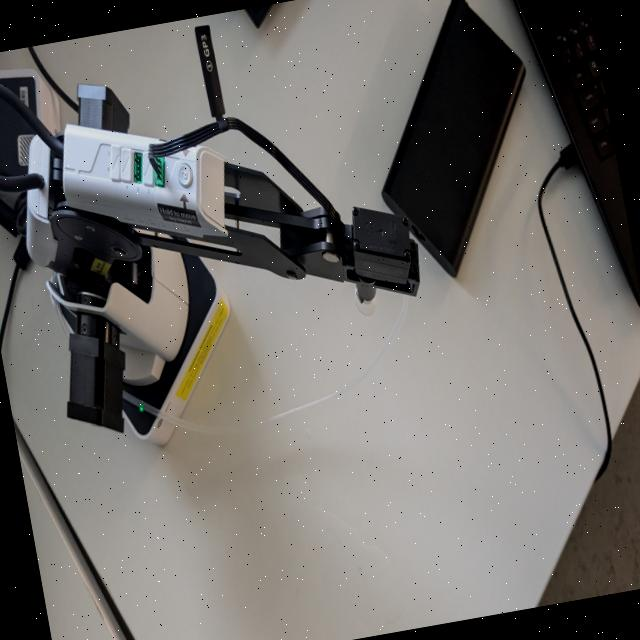Robot-end-effector-HF8z: (332, 190, 433, 322)
